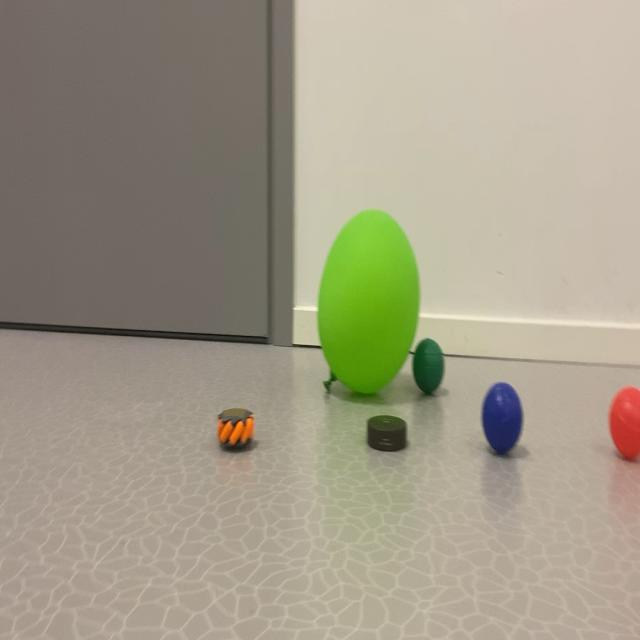7: (570, 334, 640, 478)
green ball: (477, 347, 532, 499)
red ball: (409, 310, 446, 438)
